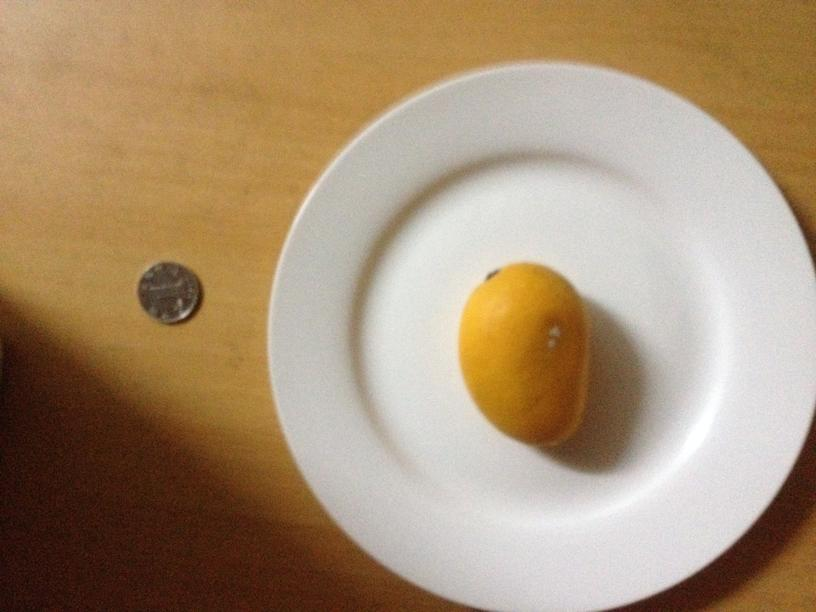coin: (136, 260, 200, 325)
mango: (460, 264, 590, 447)
